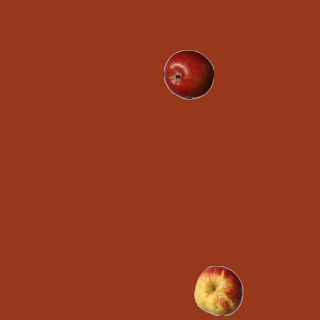Apple Braeburn: (163, 49, 213, 99)
Apple Red Yellow 1: (193, 265, 243, 315)
